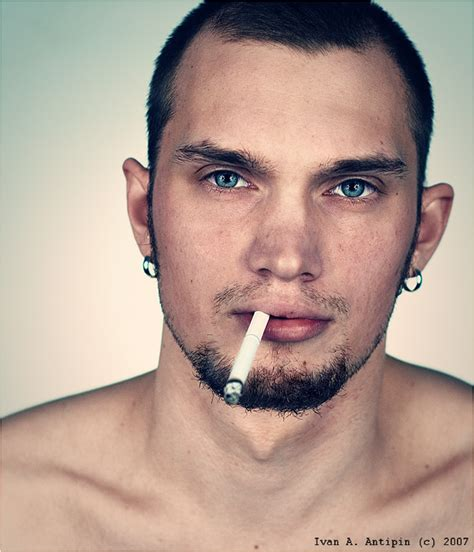cigarette: (221, 311, 269, 405)
